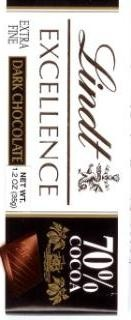grozi_65: (0, 0, 130, 319)
